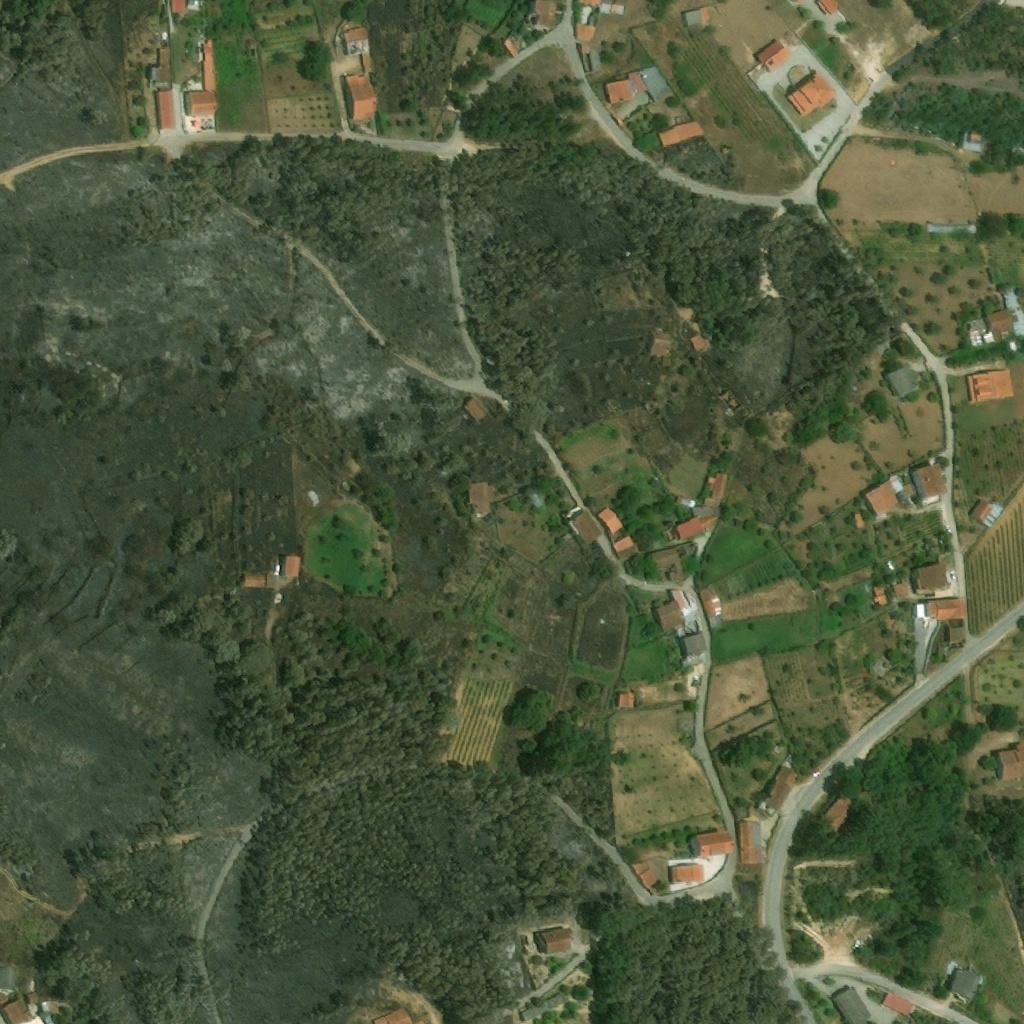0 no-damage: (673, 471, 728, 541), (603, 65, 671, 105), (957, 309, 1017, 352), (786, 69, 838, 118), (652, 589, 701, 639), (644, 540, 698, 585), (859, 472, 905, 519), (754, 766, 798, 812), (686, 823, 736, 863), (341, 73, 380, 122), (907, 459, 946, 505), (964, 369, 1014, 403), (830, 985, 873, 1023), (947, 964, 984, 1004), (734, 821, 767, 864), (568, 508, 604, 545), (909, 561, 950, 593), (885, 362, 923, 396), (520, 993, 566, 1021), (1000, 284, 1023, 338), (752, 39, 789, 72), (993, 741, 1023, 781), (659, 120, 704, 146), (534, 926, 574, 955), (697, 584, 721, 631), (823, 794, 855, 829), (574, 22, 596, 69), (527, 1, 558, 30), (629, 858, 658, 889), (971, 500, 1003, 528), (148, 47, 170, 86), (883, 992, 916, 1018), (469, 481, 492, 518), (925, 599, 967, 619), (342, 28, 370, 56), (611, 534, 639, 562), (183, 91, 217, 114), (3, 998, 34, 1023), (669, 863, 704, 885), (678, 634, 707, 660), (597, 507, 624, 533), (942, 627, 965, 657), (157, 91, 174, 130), (0, 966, 17, 1004), (648, 332, 672, 357), (374, 1008, 414, 1023), (202, 52, 216, 91), (278, 556, 300, 579), (241, 574, 276, 588), (689, 333, 710, 352), (682, 8, 702, 27), (873, 584, 887, 606), (503, 39, 519, 57), (893, 584, 908, 599), (360, 53, 371, 73), (617, 693, 629, 709), (971, 129, 982, 143), (958, 131, 968, 146), (916, 604, 926, 618), (27, 993, 41, 1003), (202, 40, 213, 51), (855, 513, 863, 528), (721, 146, 729, 156), (47, 1018, 55, 1023)
1 minor-damage: (463, 395, 489, 421)
3 destroyed: (722, 390, 745, 412)
4 un-classified: (816, 0, 843, 15), (589, 721, 605, 743), (574, 0, 601, 9), (601, 5, 625, 15), (172, 0, 186, 13)
